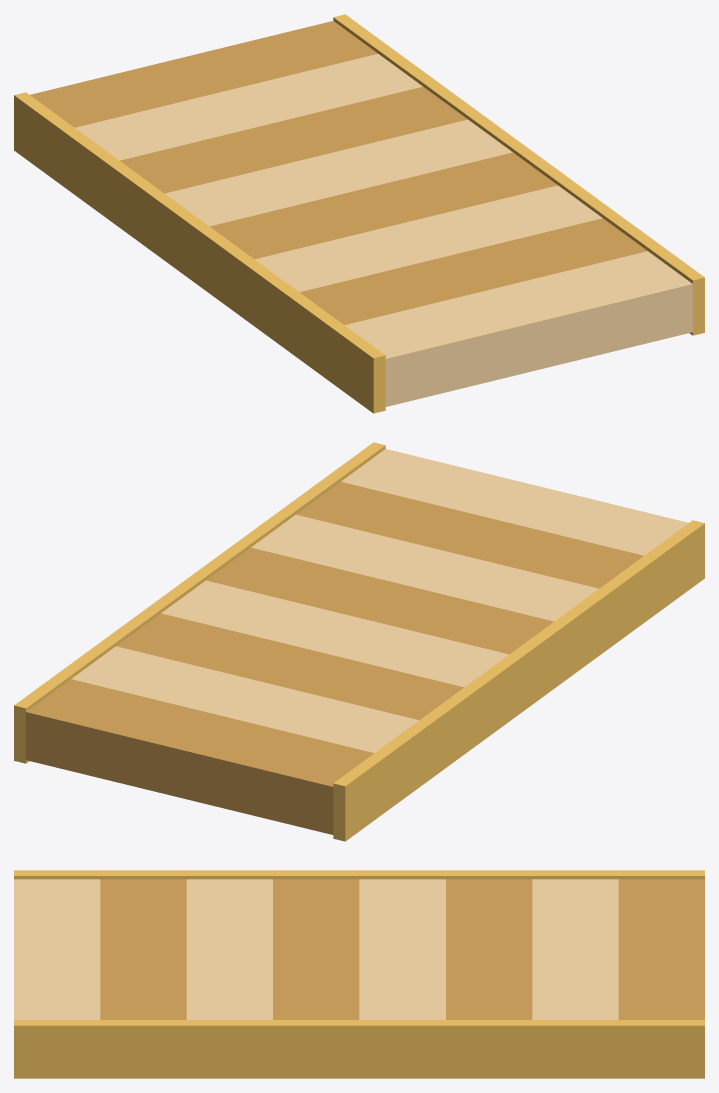
File: last element 1.fbx
3 renders of one model, top to bottom at view 1: azimuth 30°, elevation 25°; view 2: azimuth 150°, elevation 25°; view 3: azimuth 270°, elevation 25°, orthographic. The views are drawn at different scales.
Visible parts, largest first — view 1: Cube.001, Cube.007, Cube.008; view 2: Cube.001, Cube.007, Cube.008; view 3: Cube.001, Cube.008, Cube.007.
Boxes of the visible parts, x1,y1,x2,y2 form: Cube.001: (30, 21, 692, 406); Cube.007: (14, 92, 385, 413); Cube.008: (333, 14, 704, 335); Cube.001: (26, 449, 688, 834); Cube.007: (333, 520, 704, 841); Cube.008: (14, 442, 385, 763); Cube.001: (14, 879, 704, 1019); Cube.008: (14, 1020, 704, 1078); Cube.007: (14, 870, 704, 879).
Size of the model in its own units: 216 by 34.39 by 405.
